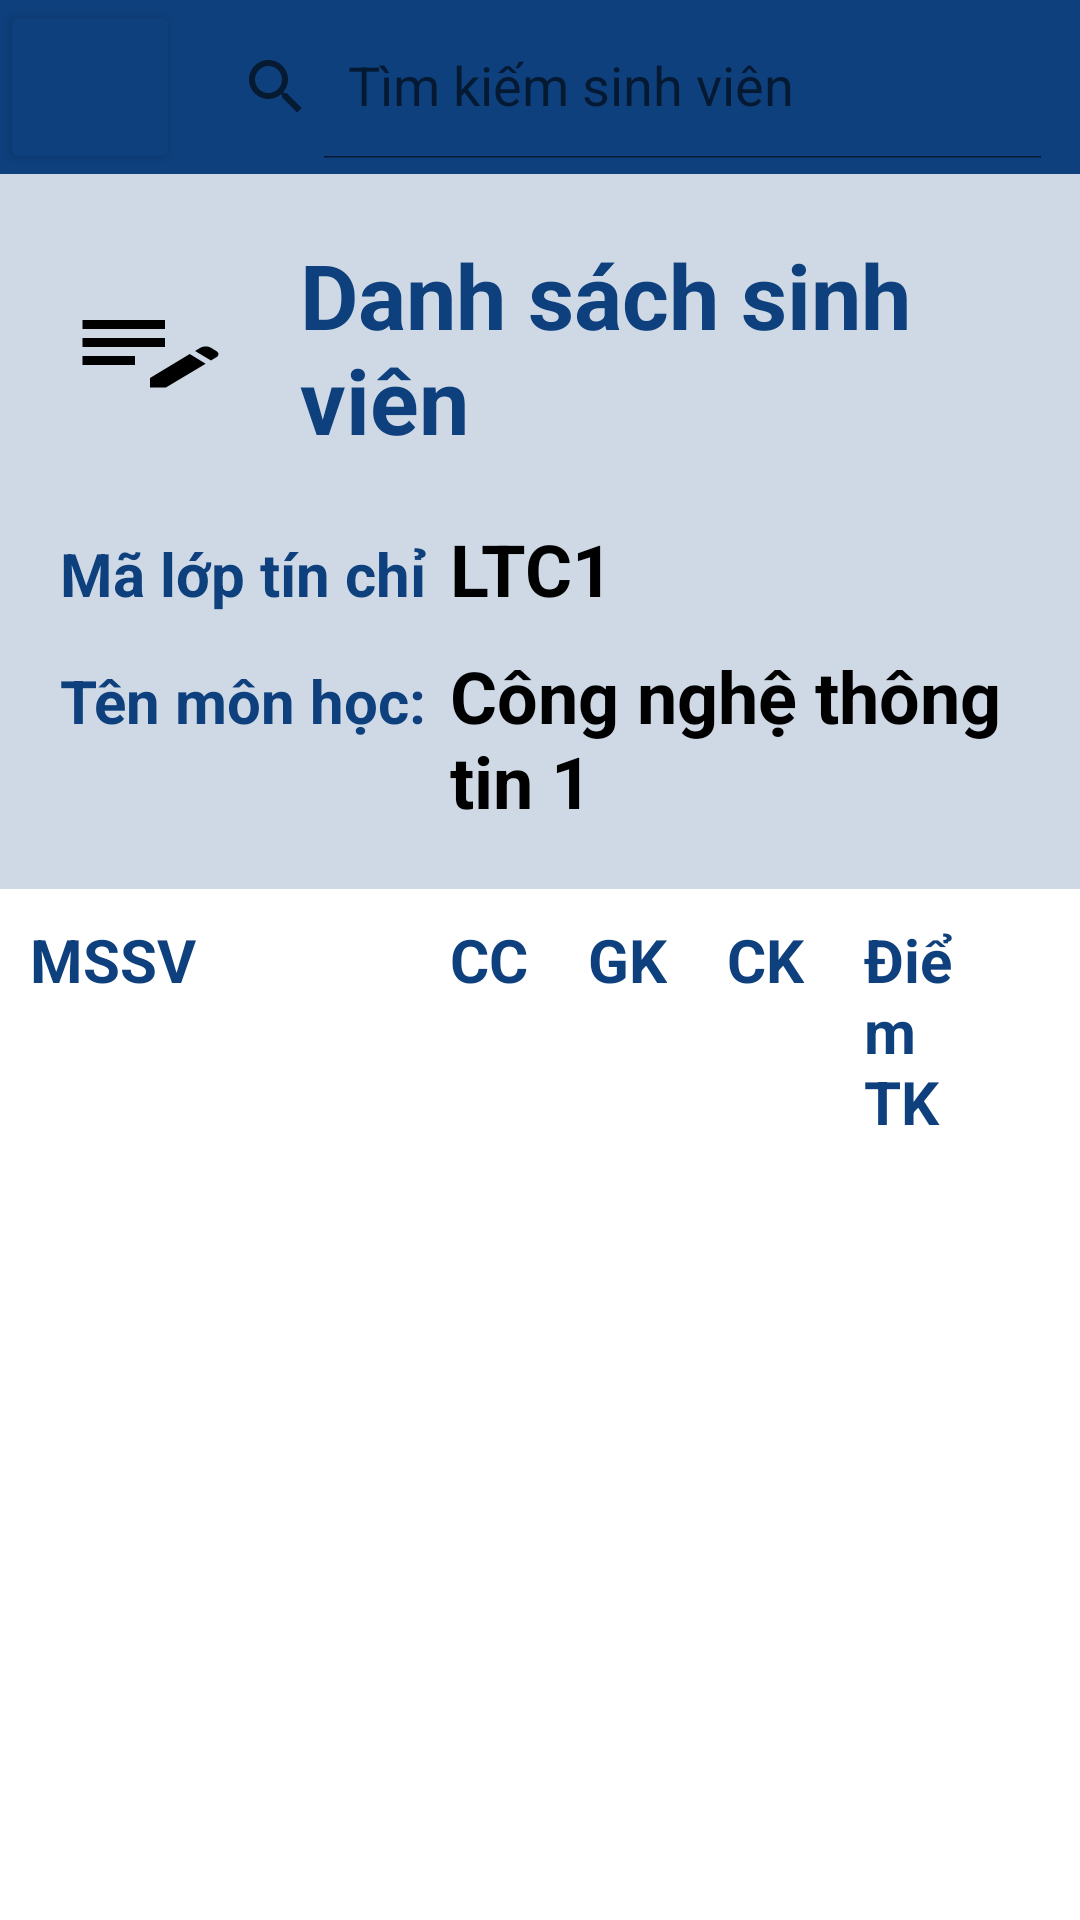

Locate icon controls on the screen. Image size 1080px×1920px, boxes as (x1, y1, x2, y2).
edit note: (82, 320, 219, 388)
